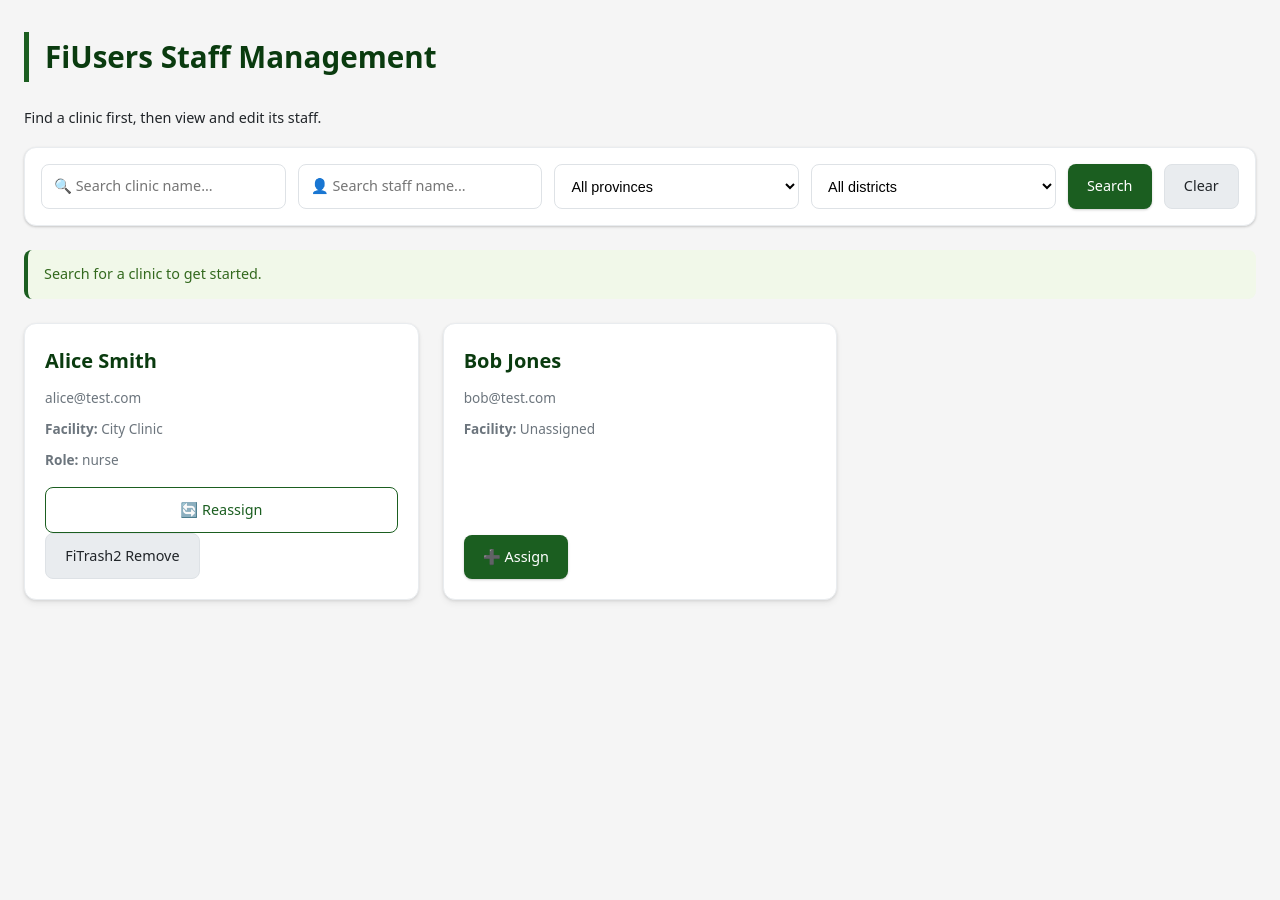
Scenario: AdminStaff › opens assign modal when clicking Assign button
Click the button "➕ Assign" at (516, 557), box [464,535,568,579]
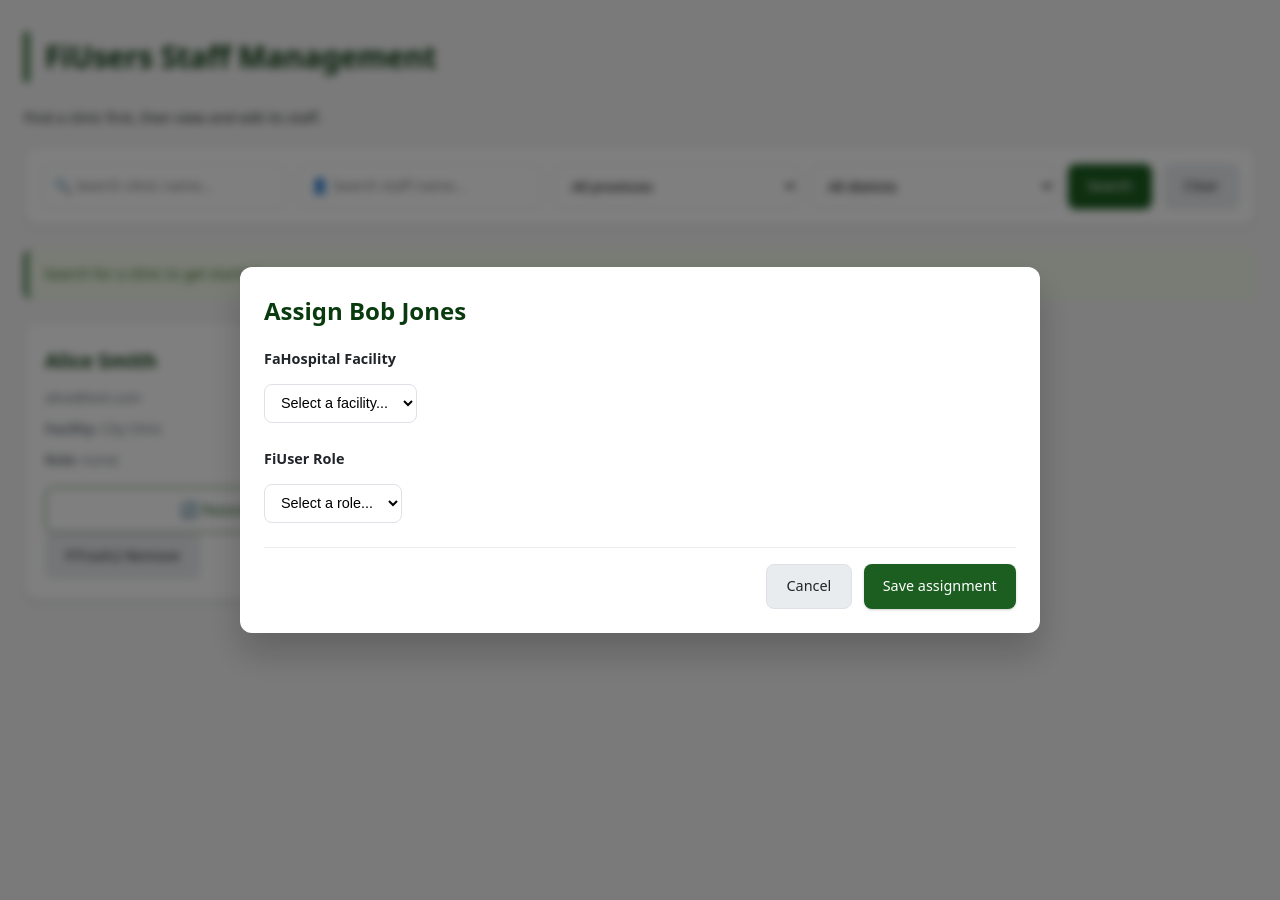
Result: the heading "Assign Bob Jones" is shown at [264,294,466,327]
